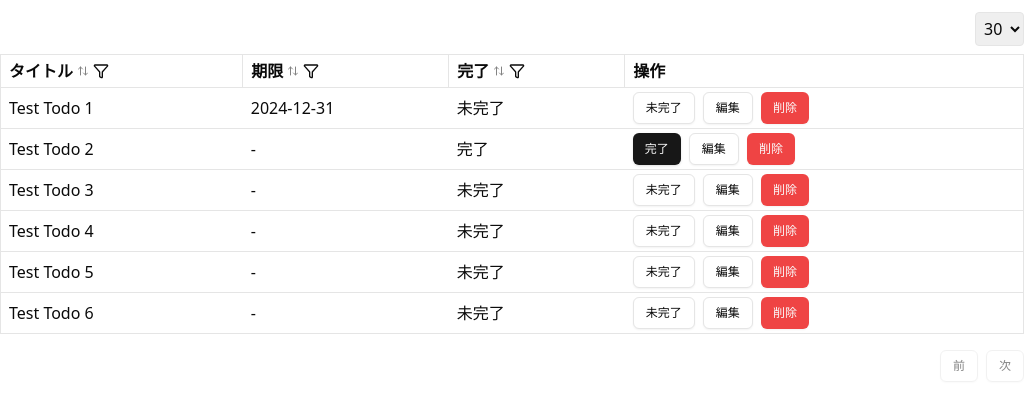
it: TodoList › paginates todos
Select "3" in the dropdown showing "30": point(1000, 29) [975,12,1024,46]
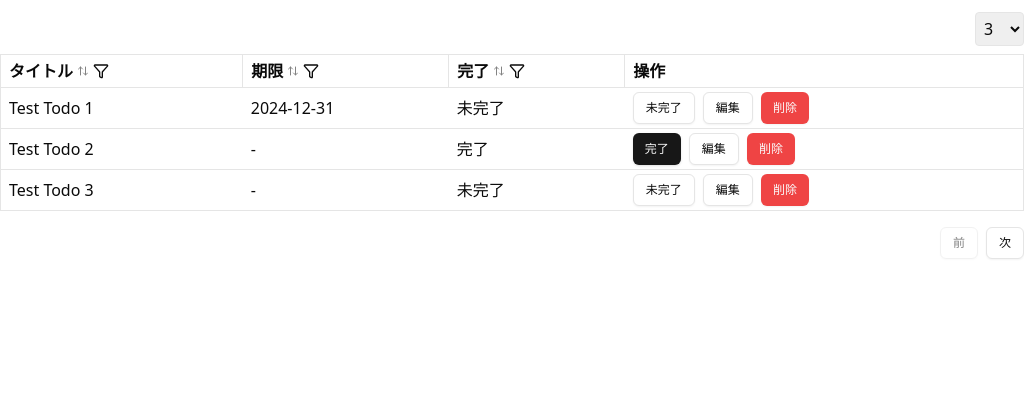
Now the row with test id "todo-row-6" is gone
Click the button "次": point(1005, 243) [986,227,1024,259]
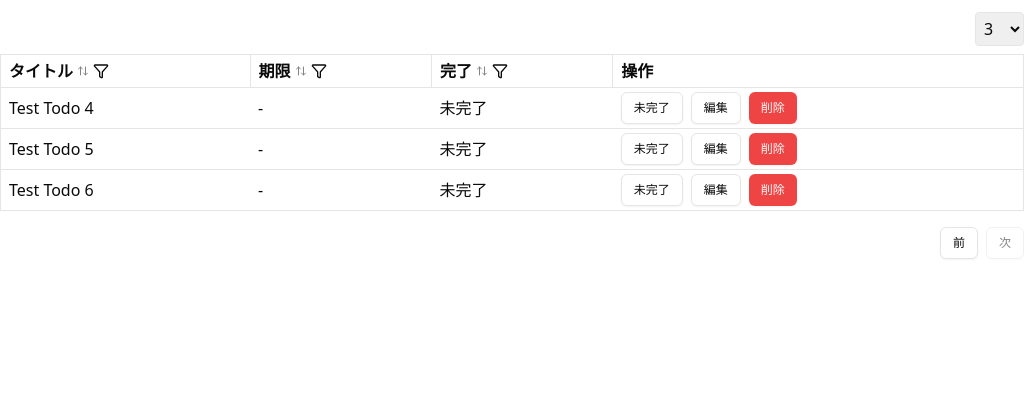
Now the row with test id "todo-row-6" is shown, box [0,170,1024,210]
